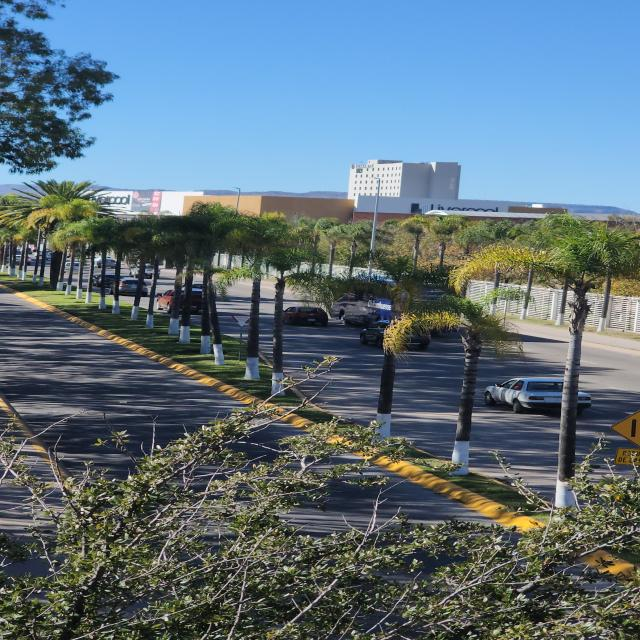Auto: (491, 377, 593, 418), (284, 306, 329, 327)
